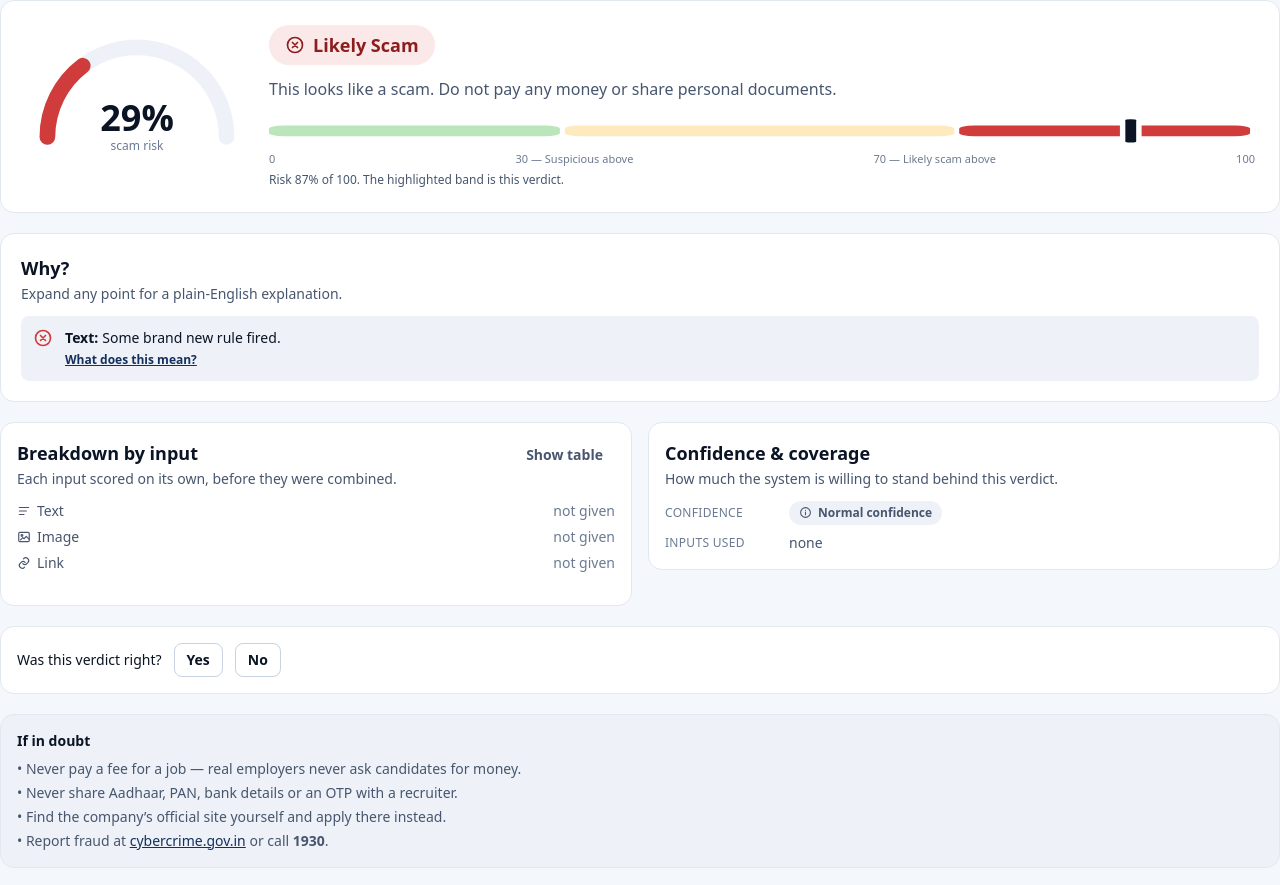
reason explanations › falls back to a generic explanation for unknown reasons
Step 1. Click the button "What does this mean?" → {"x": 131, "y": 360}, box [65,352,197,368]
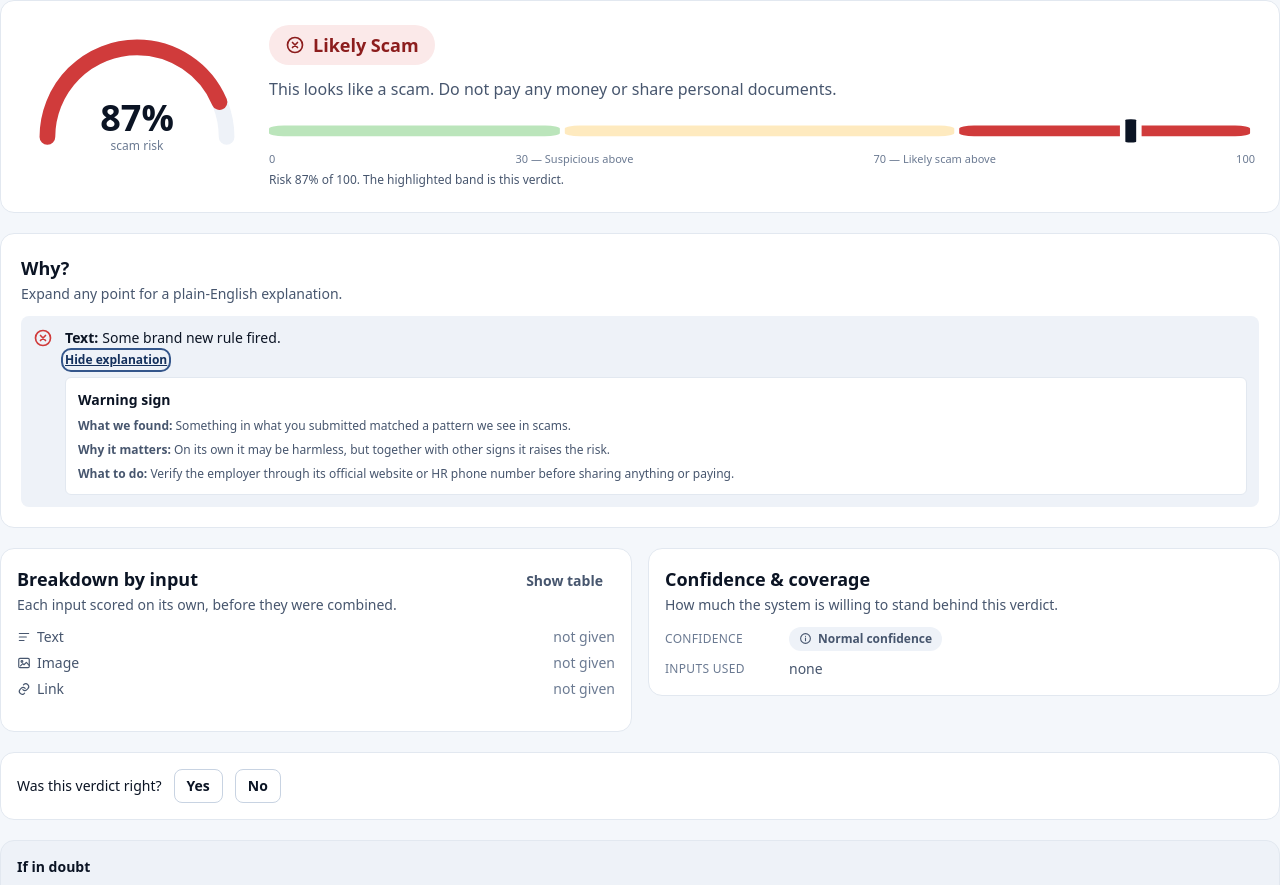
expect the text "Warning sign" is shown: met, box [78,390,170,408]
